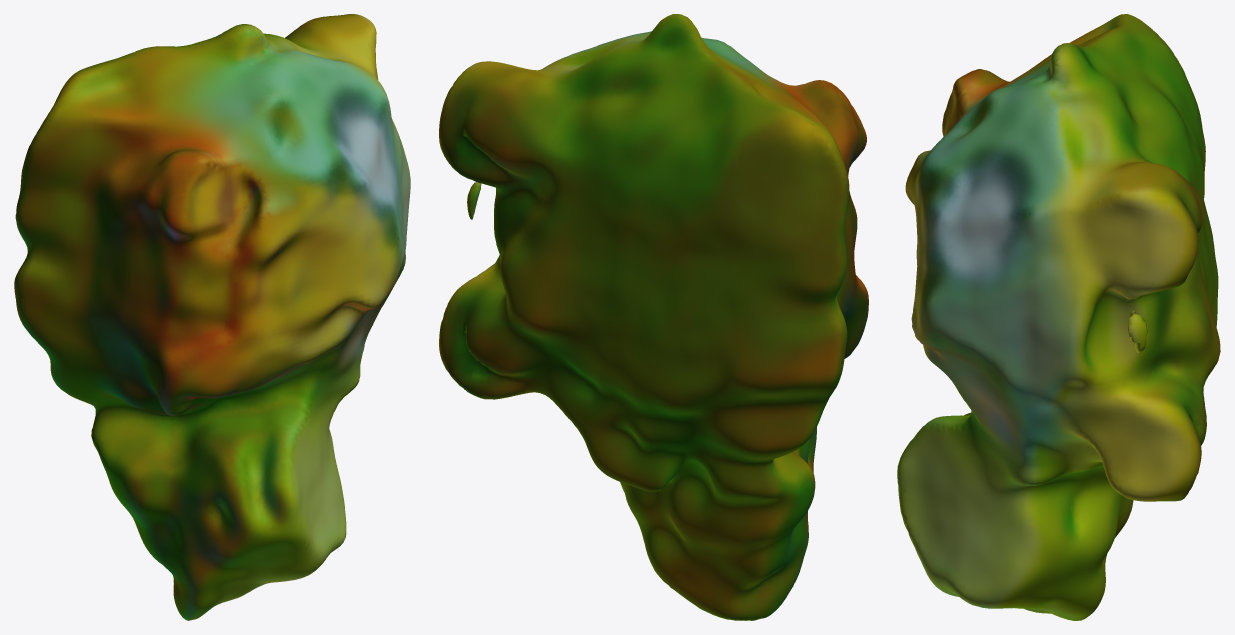
The model's file is turtle.glb.
3 renders of one model, left to right at view 1: azimuth 30°, elevation 25°; view 2: azimuth 150°, elevation 25°; view 3: azimuth 270°, elevation 25°, orthographic. The views are drawn at different scales.
Size of the model in its own units: 0.6763 by 0.9982 by 0.4852.
